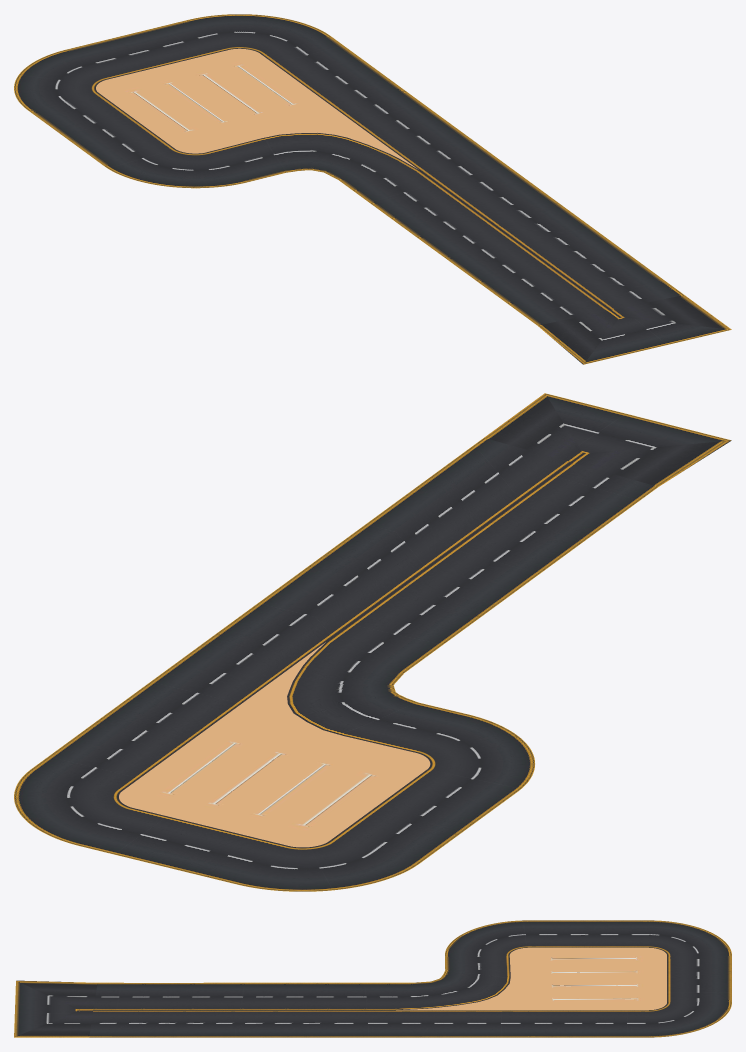
File: praking_area_level_new.FBX
3 renders of one model, top to bottom at view 1: azimuth 30°, elevation 25°; view 2: azimuth 150°, elevation 25°; view 3: azimuth 270°, elevation 25°, orthographic. The views are drawn at different scales.
Parts seen in each view (by area): view 1: roaddddd, parking; view 2: roaddddd, parking; view 3: roaddddd, parking.
Part boxes in pixels (x1,y1,x2,y2): roaddddd: (14, 14, 731, 364); parking: (96, 48, 418, 169); roaddddd: (14, 393, 731, 891); parking: (119, 642, 430, 847); roaddddd: (14, 920, 731, 1037); parking: (396, 947, 666, 1010).
Size of the model in its own units: 847 by 0.00035 by 2195.
